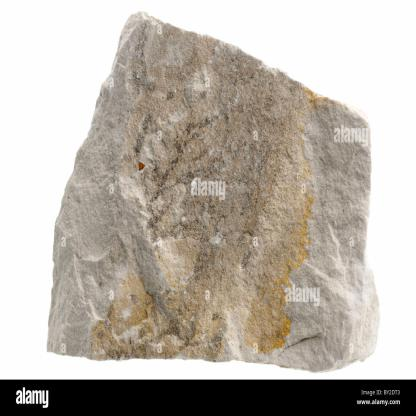Sedimentary_Chalk: (111, 24, 381, 368)
